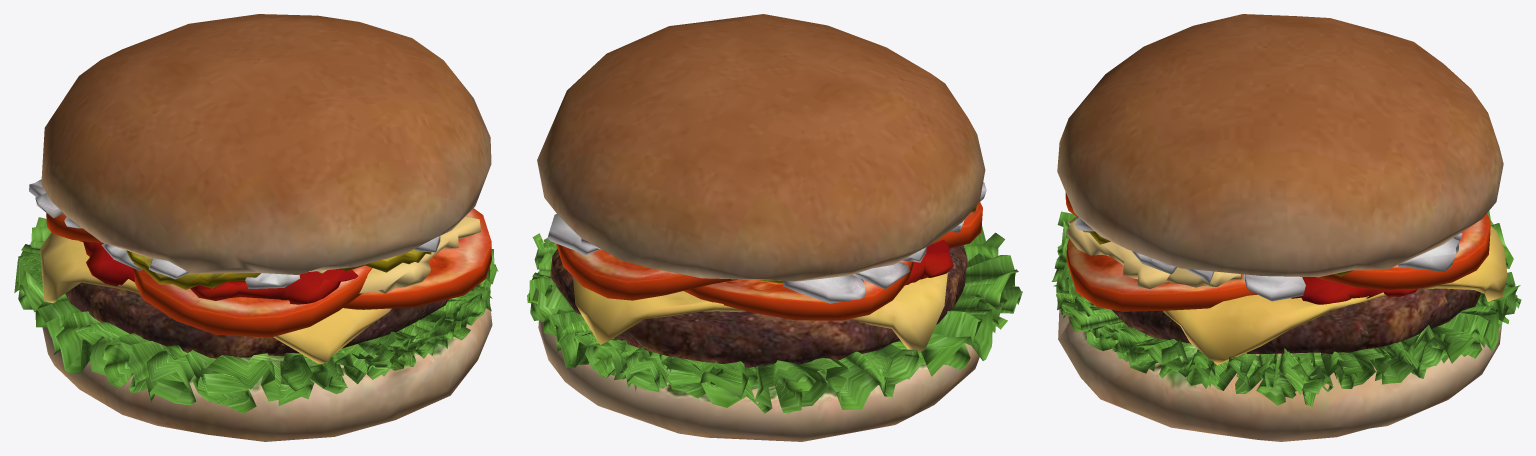
File: HAMBURGER.fbx
The picture shows the model from 3 angles, left to right: view 1: azimuth 30°, elevation 25°; view 2: azimuth 150°, elevation 25°; view 3: azimuth 270°, elevation 25°; orthographic projection.
Visible parts, largest first — view 1: HAMBURGER; view 2: HAMBURGER; view 3: HAMBURGER.
Part boxes in pixels (x1,y1,x2,y2): HAMBURGER: (14,14,498,441); HAMBURGER: (527,14,1022,441); HAMBURGER: (1051,14,1521,441).
Bounding box in the file's own units: 15.03 × 10.45 × 14.27.
Materials: 1 (1 with a texture image).
